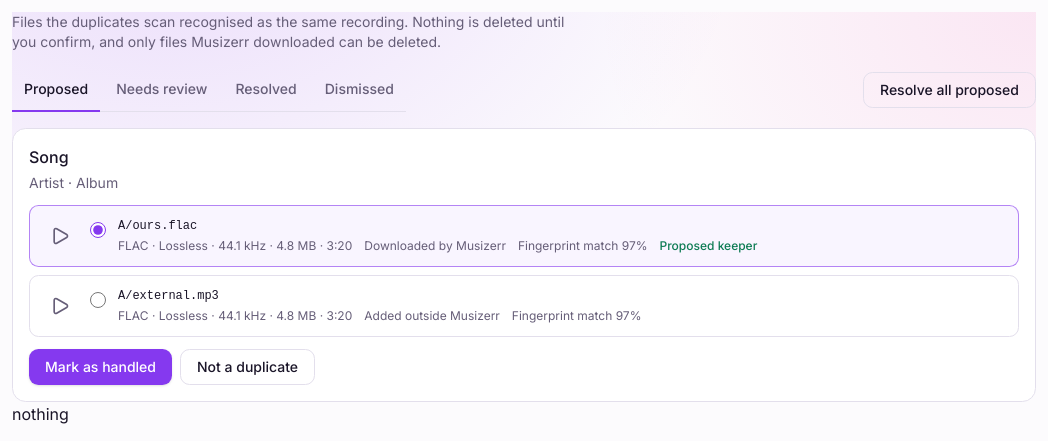
Test: Administration › Duplicates › keeping the only file Musizerr downloaded deletes nothing: the action says so
This screenshot has width=1048, height=441.
Expected: the button "Mark as handled" is shown, [29, 349, 172, 385]
Click the 2nd radio button.
click(98, 300)  # box [90, 292, 106, 308]
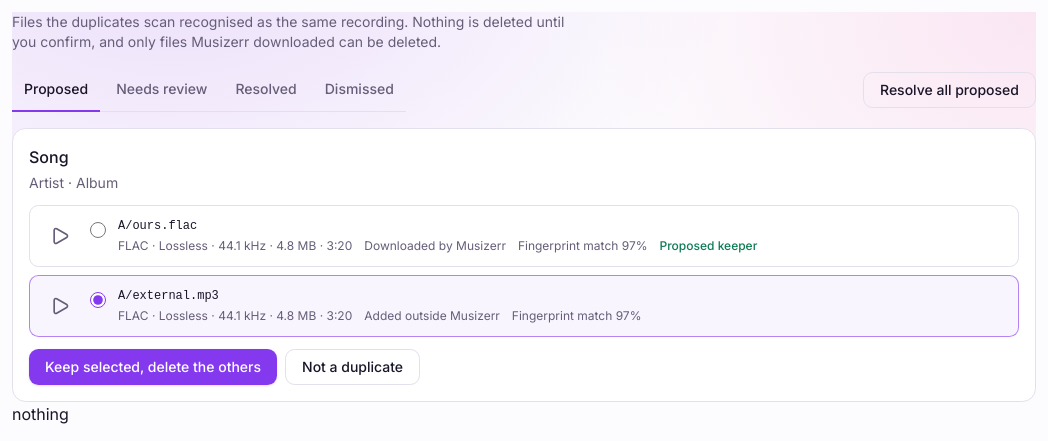
Now the button "Keep selected, delete the others" is shown, box [29, 349, 277, 385]
